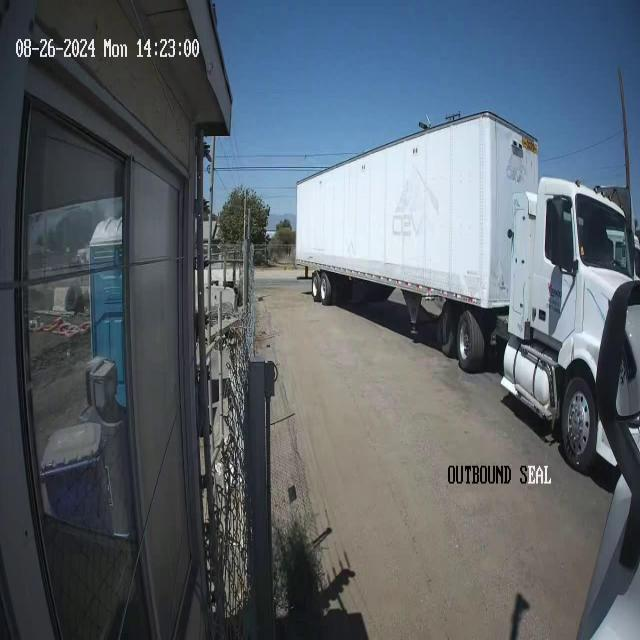TRUCK_IN: (294, 109, 640, 480)
